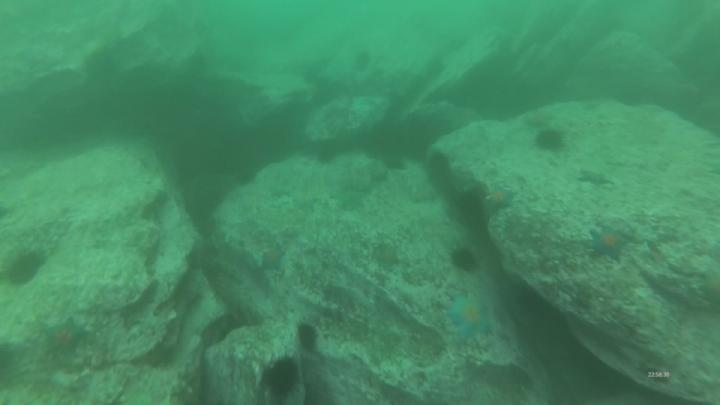echinus: (268, 362, 298, 393), (11, 255, 40, 282), (538, 130, 562, 152), (301, 324, 316, 347), (452, 250, 471, 267)
starfish: (447, 295, 492, 338), (45, 320, 85, 358), (590, 227, 628, 260), (487, 189, 515, 212), (376, 245, 399, 267), (581, 169, 609, 187), (261, 248, 284, 267)
